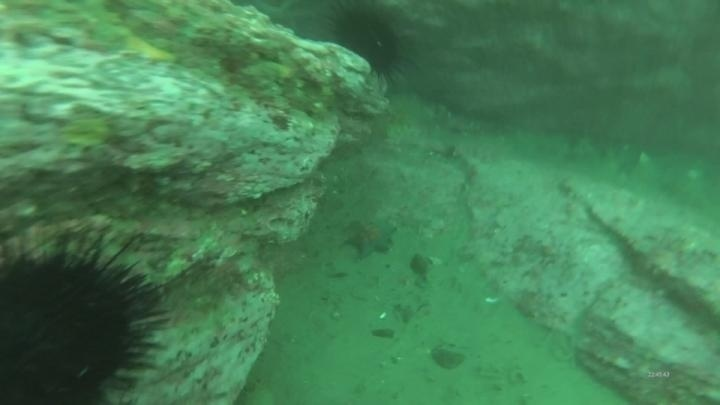echinus: (1, 230, 168, 404), (325, 2, 411, 83)
starfish: (340, 214, 399, 261)
